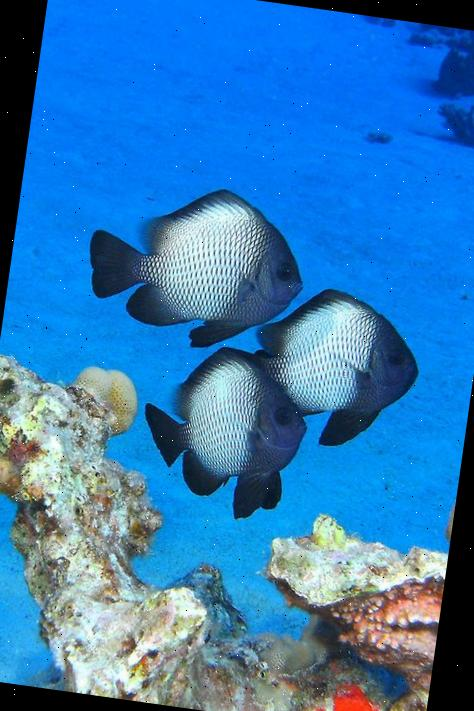fish: (78, 170, 314, 360), (130, 338, 316, 524), (243, 279, 428, 458)
